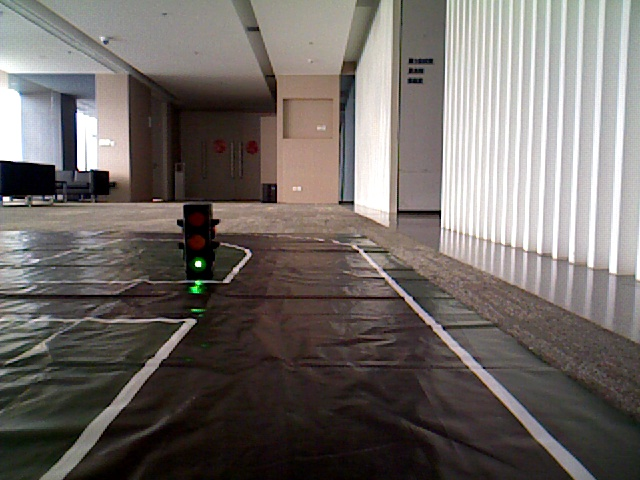green: (183, 209, 210, 272)
